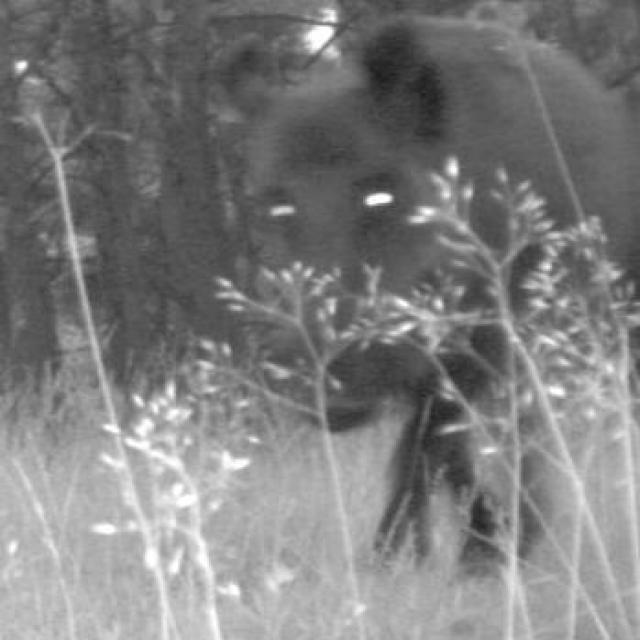pig: (225, 30, 640, 561)
